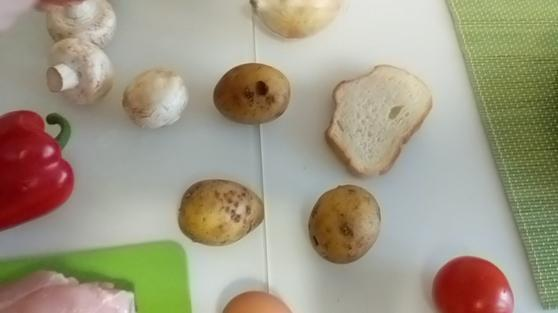champignon: (52, 37, 114, 108), (124, 70, 189, 128), (39, 1, 118, 41)
chicken_fillet: (2, 260, 141, 313)
onion: (254, 1, 343, 40)
pepper: (1, 112, 77, 230)
potato: (309, 185, 384, 266), (179, 180, 267, 247), (214, 62, 290, 123)
tomato: (432, 255, 517, 313)
white_bread: (327, 62, 434, 178)
